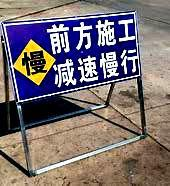sign: (7, 15, 141, 99)
